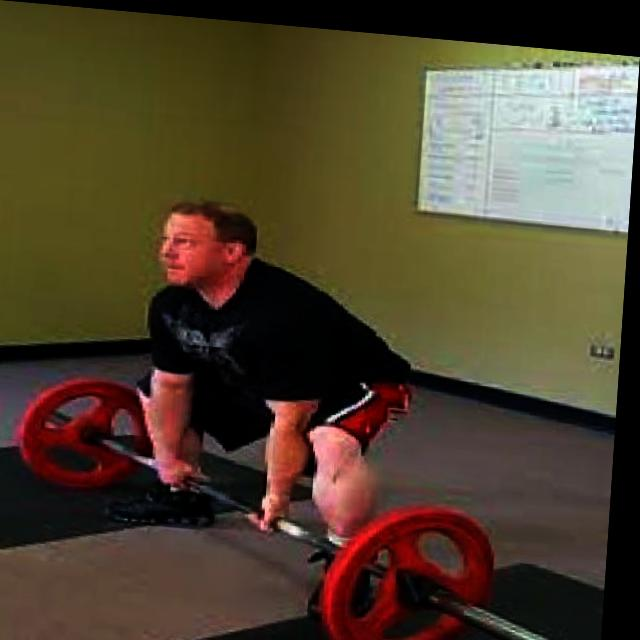barbell: (320, 490, 593, 640)
